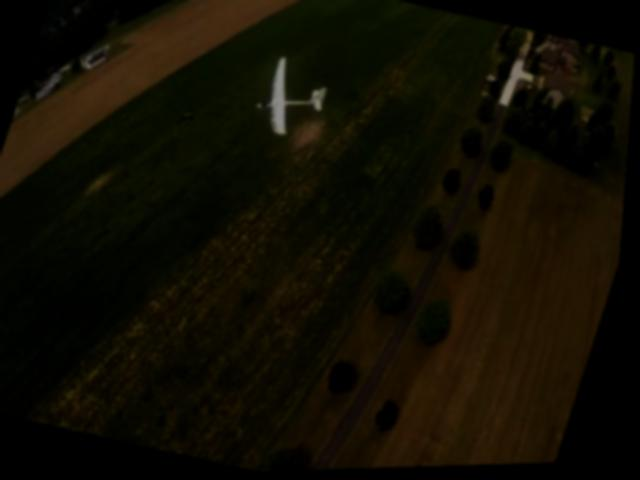uav: (247, 51, 340, 147)
